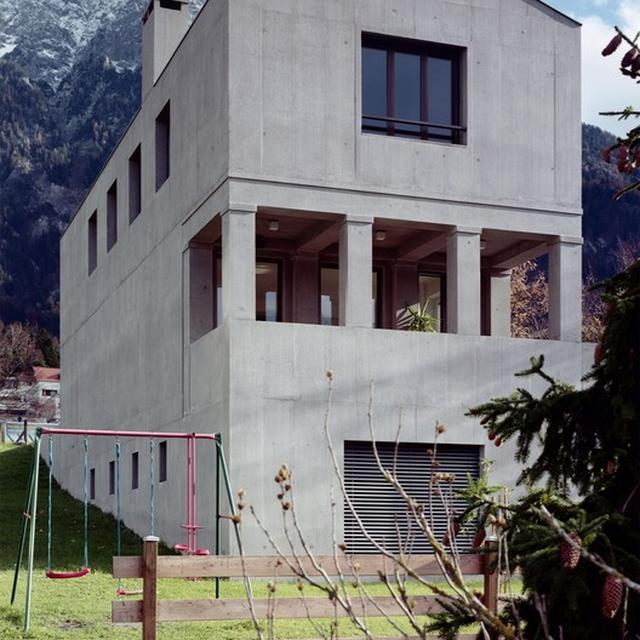building: (55, 0, 597, 579)
